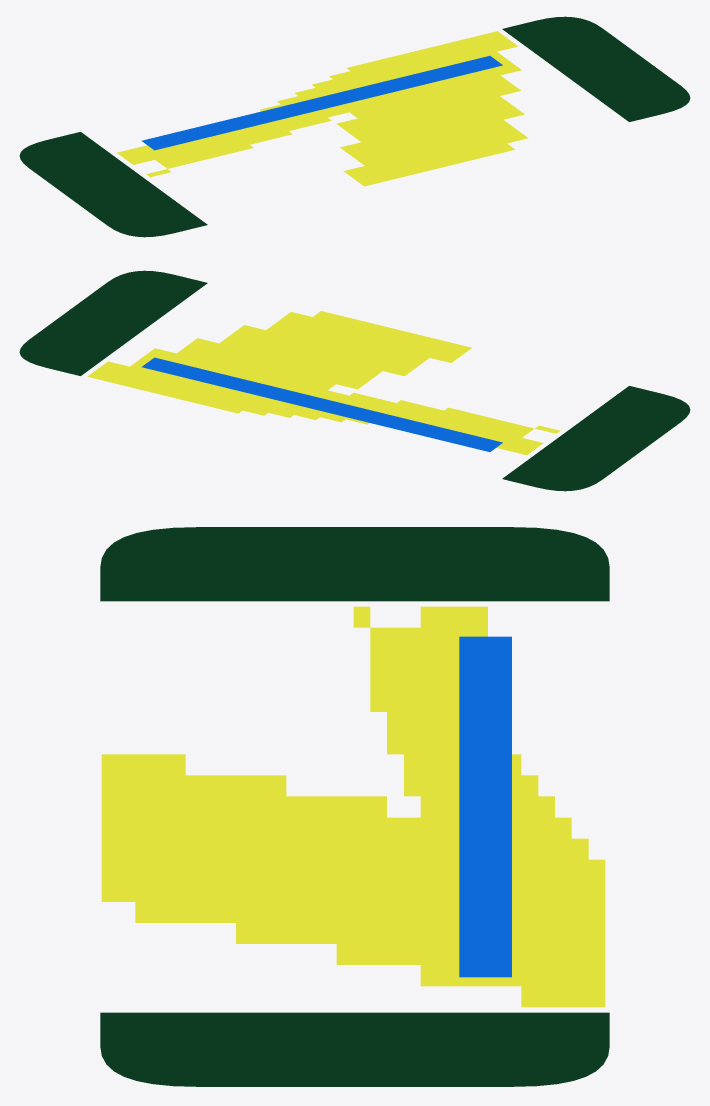
The model's file is 記分板.FBX.
The picture shows the model from 3 angles, top to bottom: view 1: azimuth 30°, elevation 25°; view 2: azimuth 150°, elevation 25°; view 3: azimuth 270°, elevation 25°; orthographic projection. The views are drawn at different scales.
Parts seen in each view (by area): view 1: 記分板; view 2: 記分板; view 3: 記分板.
Part boxes in pixels (x1=…): 記分板: x1=19, y1=16, x2=690, y2=237; 記分板: x1=19, y1=270, x2=690, y2=491; 記分板: x1=100, y1=527, x2=609, y2=1086.
Bounding box in the file's own units: 500 × 1.21e-14 × 198.
